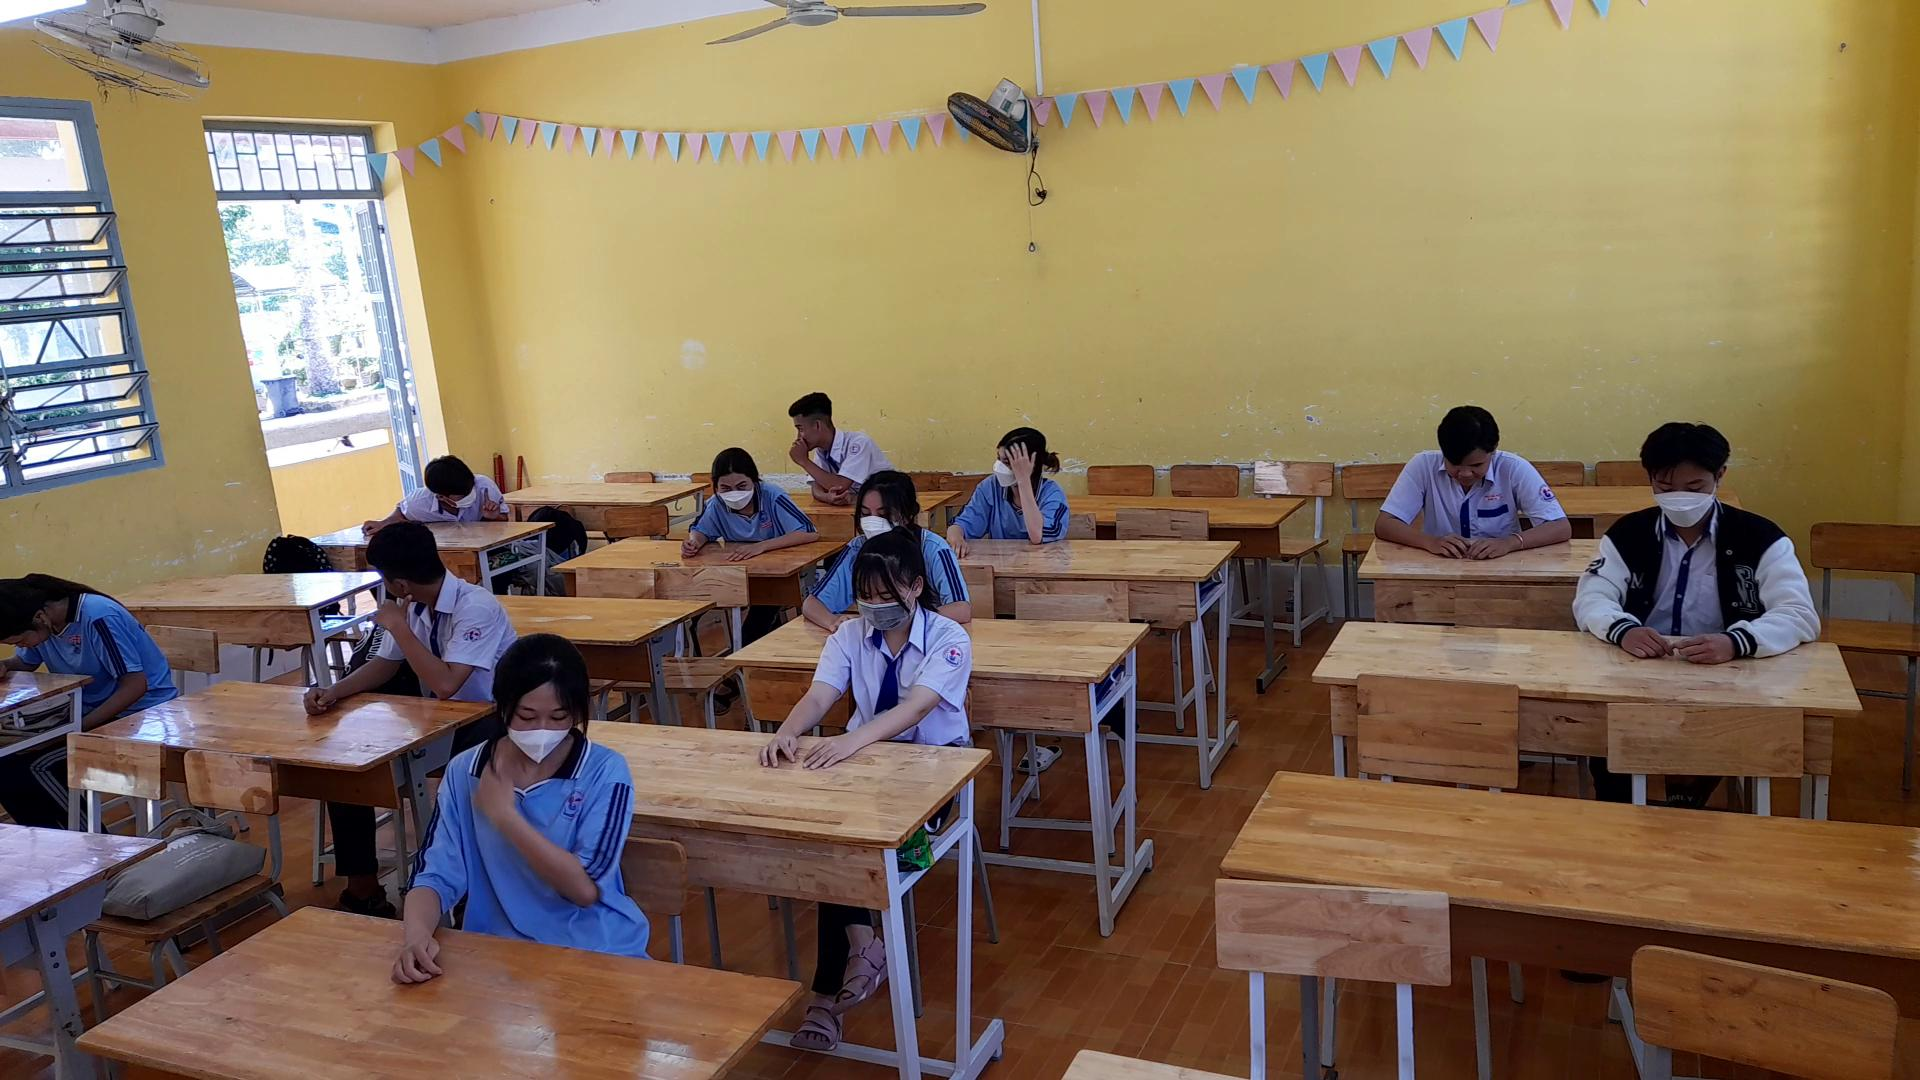Bend Over The Desk: (488, 621, 599, 771), (1414, 382, 1505, 491)
Hand Under Table: (69, 612, 152, 729)
Look Around: (349, 512, 452, 616), (378, 456, 516, 531)
Normal: (1557, 400, 1822, 665), (752, 522, 975, 774), (676, 442, 818, 560)
Wave: (469, 752, 640, 909), (360, 585, 496, 694), (1004, 436, 1072, 542), (779, 429, 865, 493)
